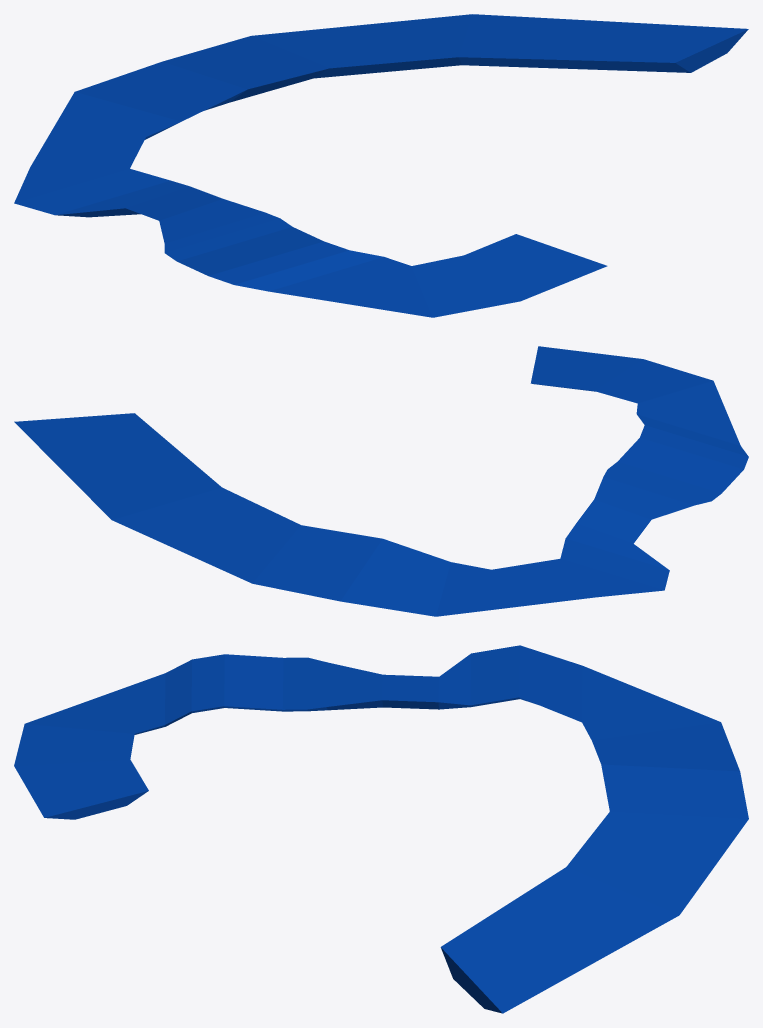
The model's file is River.fbx.
The picture shows the model from 3 angles, top to bottom: view 1: azimuth 30°, elevation 25°; view 2: azimuth 150°, elevation 25°; view 3: azimuth 270°, elevation 25°; orthographic projection. The views are drawn at different scales.
Parts seen in each view (by area): view 1: River; view 2: River; view 3: River.
Part boxes in pixels (x1,y1,x2,y2): River: (14, 14, 748, 317); River: (14, 346, 748, 616); River: (14, 645, 748, 1013).
Bounding box in the file's own units: 47452 × 2158 × 39674.
Materials: 1 (1 with a texture image).
